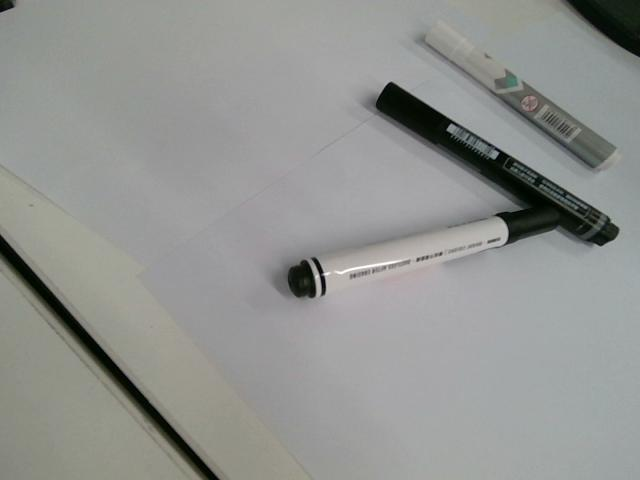pen: (287, 206, 561, 300)
